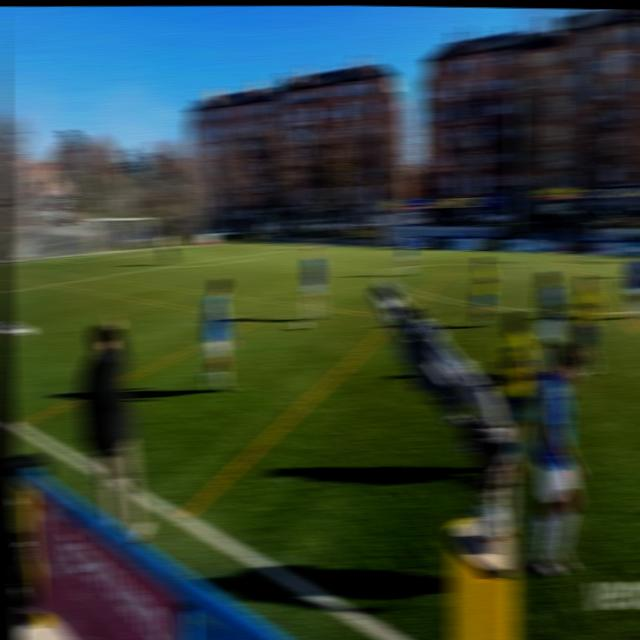bottom_arc_area_intersection: (153, 262, 174, 272)
halfcircle_top: (507, 258, 522, 270)
smallarea_bottom_inner: (64, 257, 78, 270)
smallarea_bottom_outter: (38, 258, 56, 264)
smallarea_top_inner: (200, 245, 214, 252)
smallarea_top_outter: (176, 244, 192, 250)
top_arc_area_intersection: (255, 249, 268, 257)
